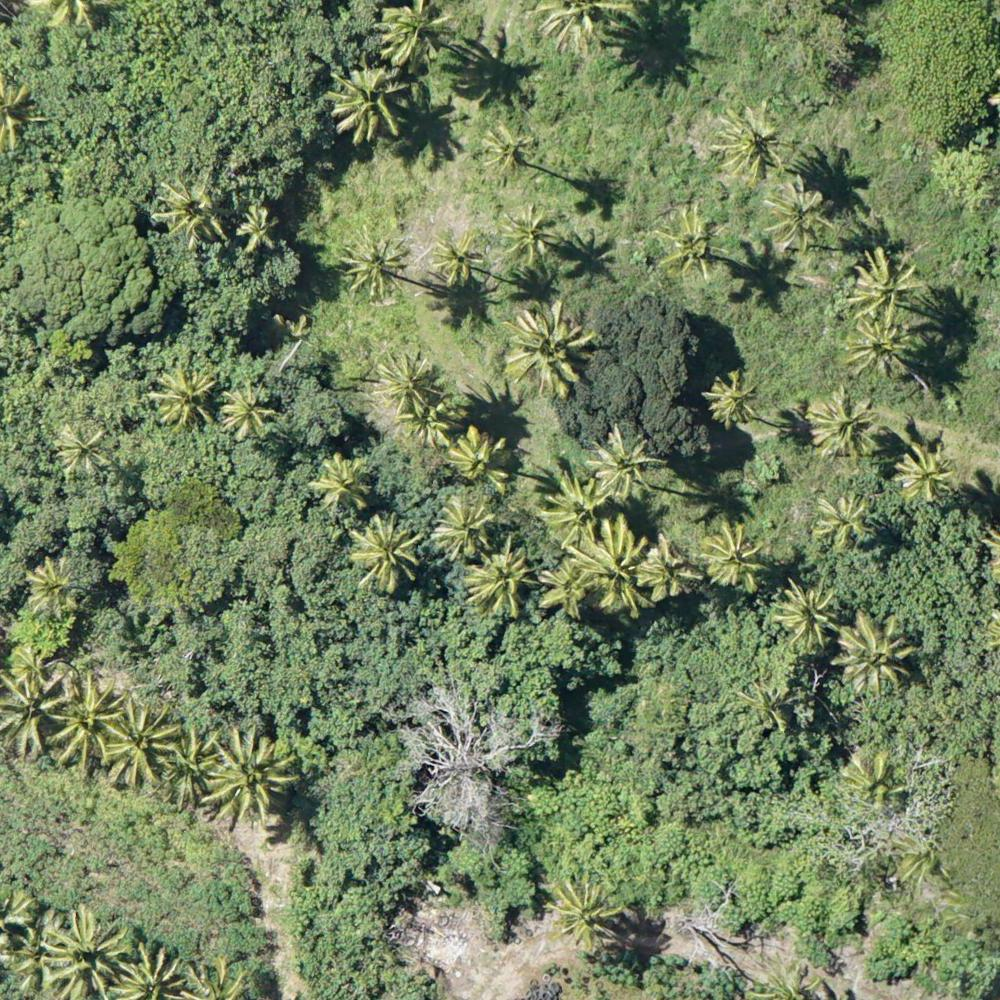Palm: (504, 305, 595, 399), (99, 698, 179, 795), (43, 909, 126, 998), (209, 728, 290, 819), (840, 606, 917, 701), (572, 518, 648, 614), (50, 674, 125, 768), (715, 106, 795, 183), (330, 64, 408, 142), (3, 664, 66, 756), (549, 875, 625, 951), (850, 247, 921, 327), (383, 1, 458, 75), (805, 388, 880, 462), (655, 206, 728, 280), (589, 427, 659, 500), (355, 516, 422, 592), (468, 544, 537, 616), (162, 175, 230, 247), (339, 225, 406, 298), (540, 471, 606, 545), (761, 181, 830, 251), (841, 319, 917, 382), (373, 350, 437, 424), (700, 522, 769, 588), (771, 580, 837, 649), (159, 724, 215, 804), (149, 361, 218, 425), (431, 495, 493, 561), (841, 748, 905, 811), (309, 454, 372, 516), (895, 441, 959, 502), (637, 538, 702, 598), (450, 426, 509, 489), (814, 492, 873, 554), (500, 205, 562, 263), (52, 419, 115, 475), (216, 384, 280, 439), (539, 556, 598, 615), (481, 124, 536, 183), (708, 369, 763, 428), (24, 559, 78, 617), (428, 235, 483, 285), (236, 204, 280, 255)
